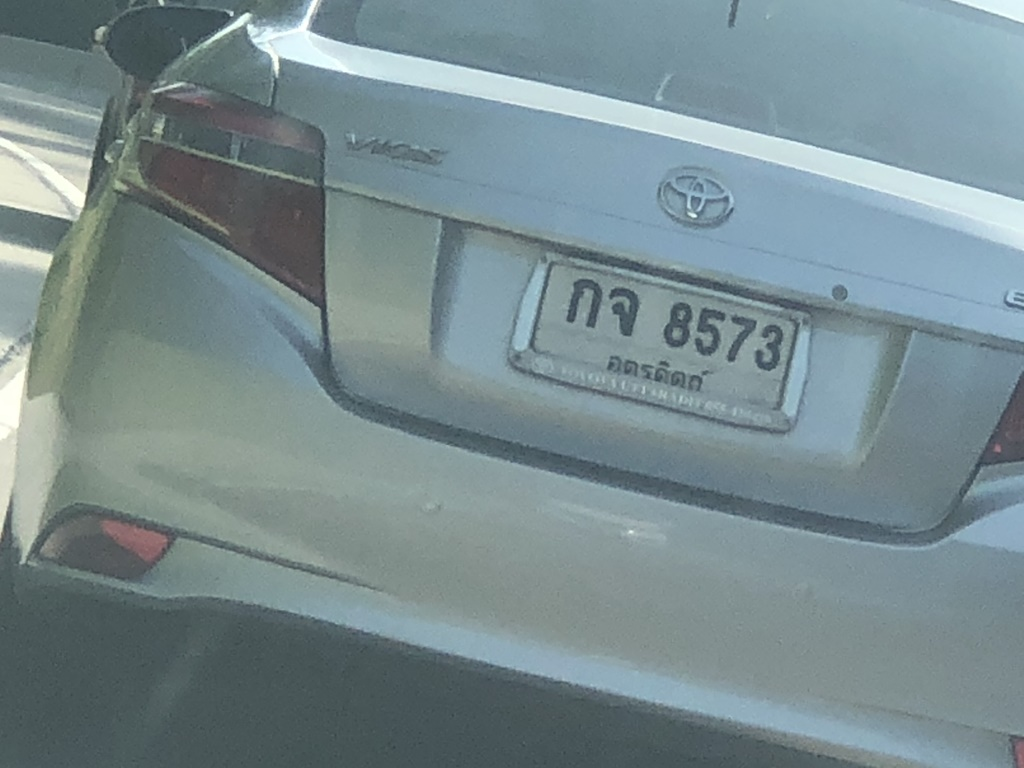eight: (650, 277, 698, 365)
plate: (516, 233, 812, 435)
three: (750, 309, 794, 390)
